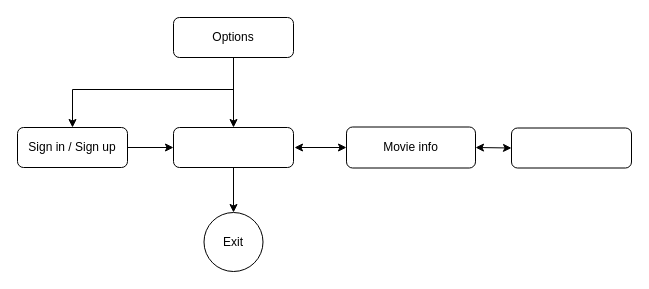
Some shapes in this 649 by 289 pixel diagram are drawn without their labels. Each missing label, with the box of its shape:
Link to IMDB: (510, 127, 632, 168)
Movies: (172, 126, 294, 168)
